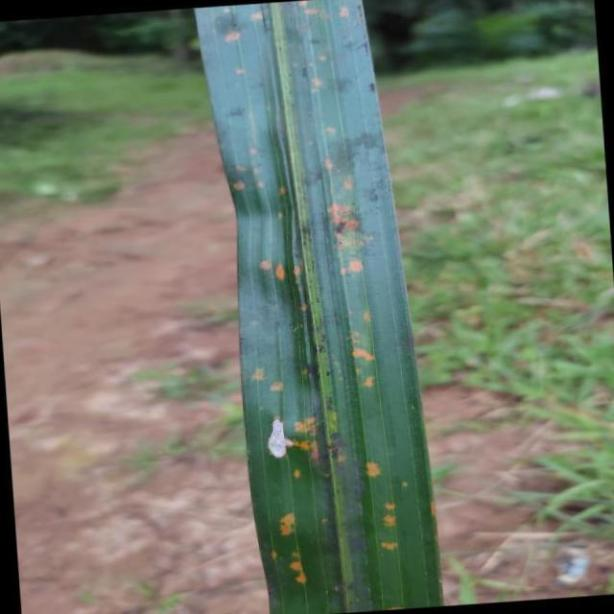Kalium: (189, 0, 444, 614)
